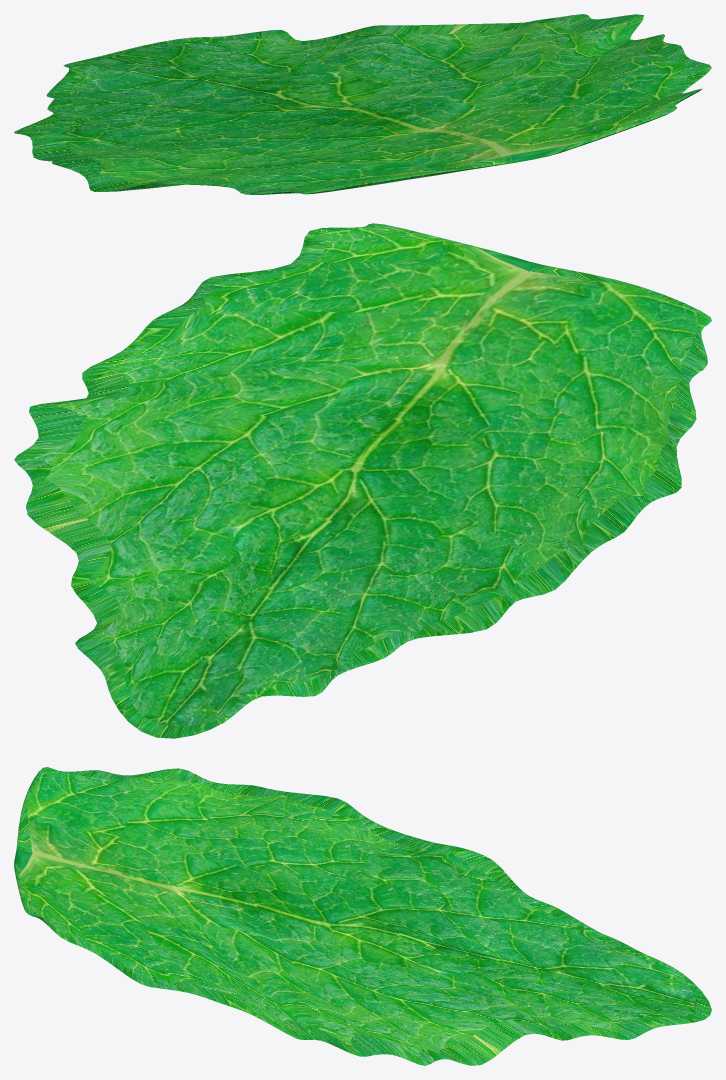
The model's file is Minze.fbx.
3 renders of one model, top to bottom at view 1: azimuth 30°, elevation 25°; view 2: azimuth 150°, elevation 25°; view 3: azimuth 270°, elevation 25°, orthographic. The views are drawn at different scales.
Parts seen in each view (by area): view 1: Minzblatt; view 2: Minzblatt; view 3: Minzblatt.
Boxes of the visible parts, x1,y1,x2,y2 form: Minzblatt: (14, 14, 711, 194); Minzblatt: (14, 223, 711, 738); Minzblatt: (14, 767, 711, 1065).
Size of the model in its own units: 199 by 61.61 by 230.
